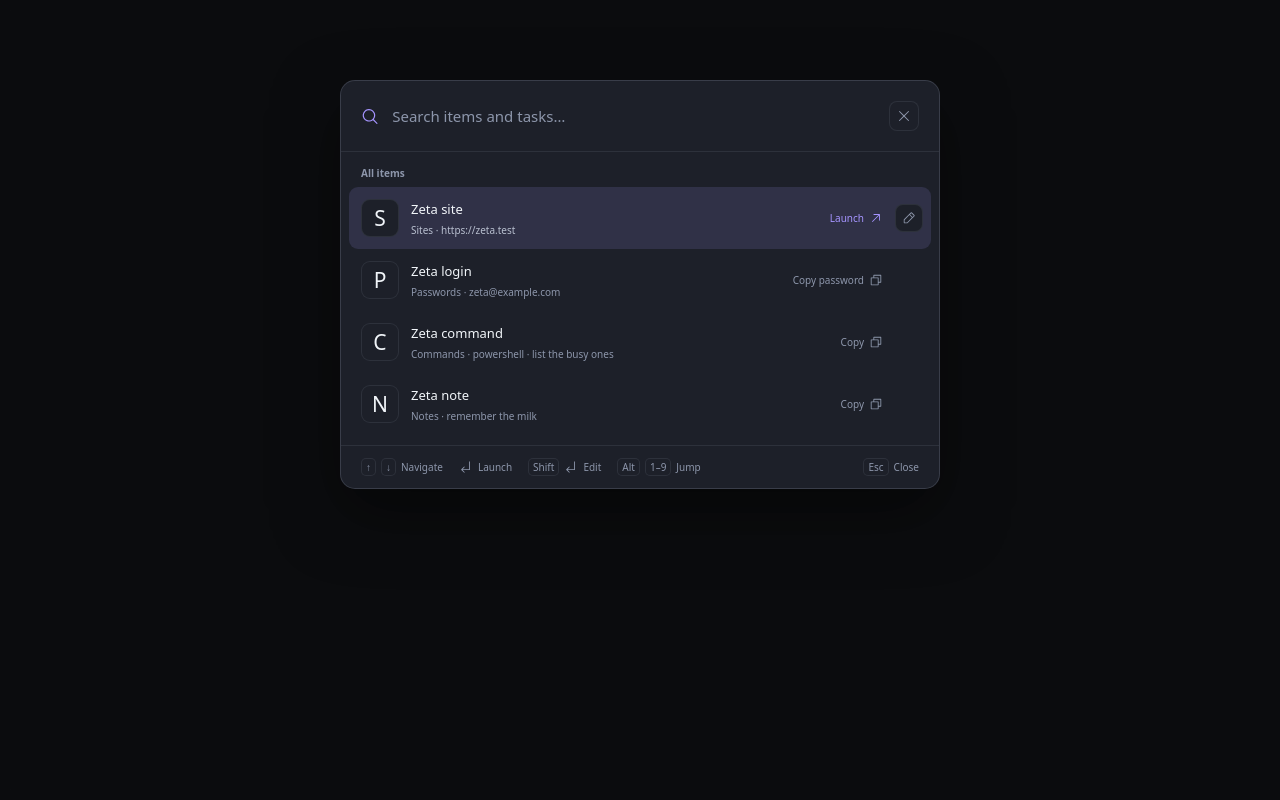
Test: the search palette: the action is on the row › speaks en
The width and height of the screenshot is (1280, 800).
Step 1. Type "zeta login" into the dropdown with test id "command-input" → (634, 116), box x1=392 y1=106 x2=876 y2=126
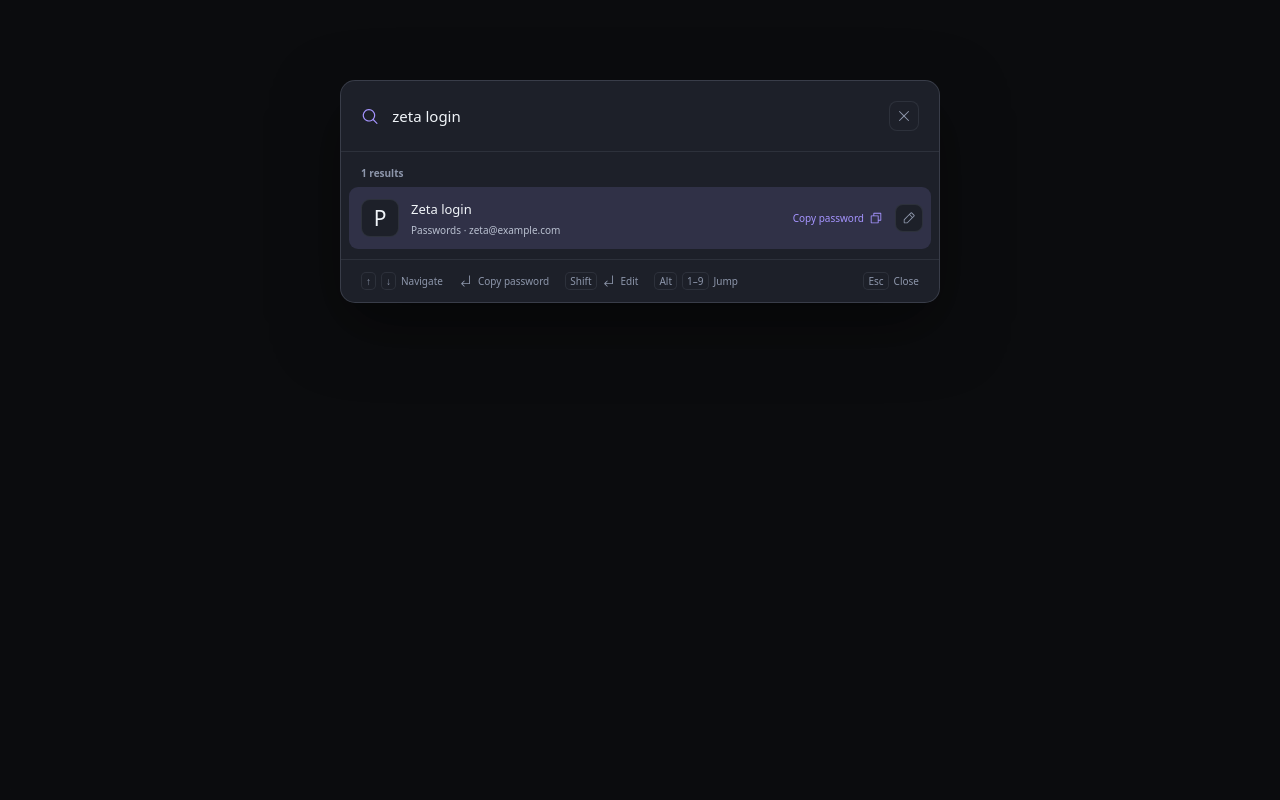
Expected: the option shows "Copy password", x1=349 y1=187 x2=895 y2=249
Expected: the number of options is 1, x1=349 y1=187 x2=895 y2=249
